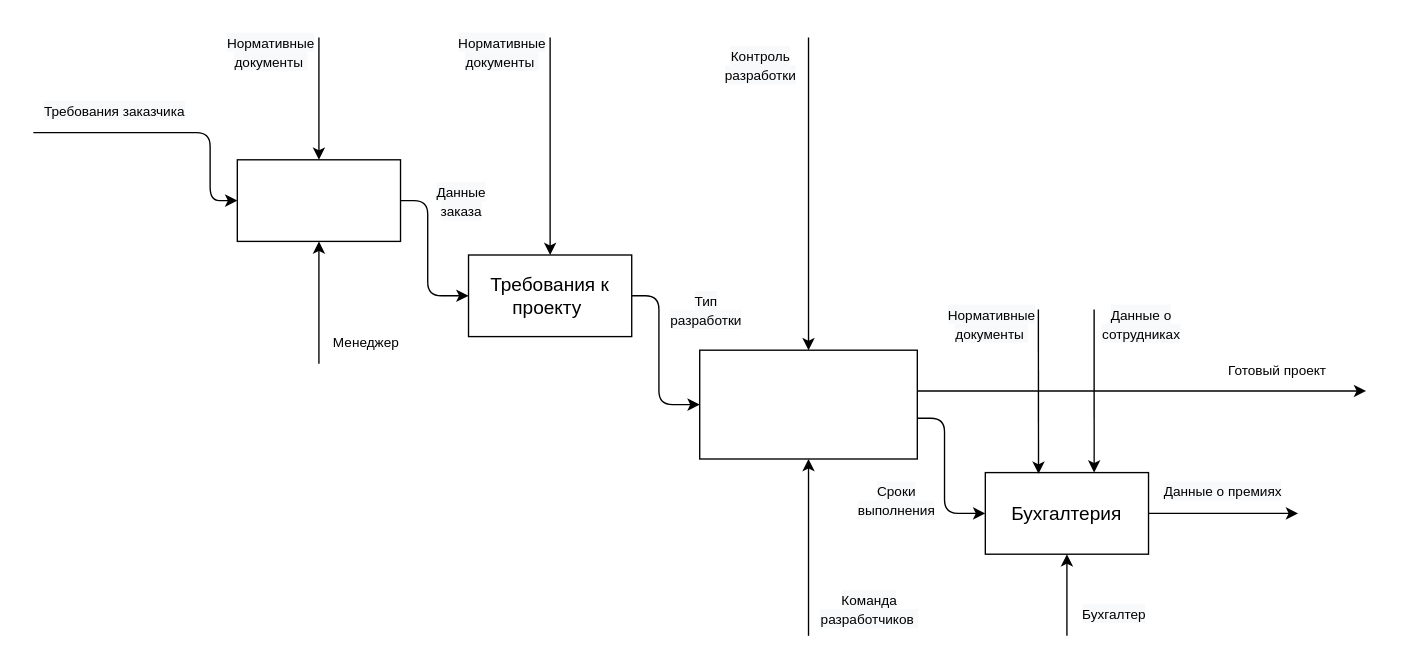
This 1401x670 diagram has some shape labels left out. The shapes that lost their labels are listed below. From the top down, each one's box as (x1, y1, x2, y2) in pixels, then its label:
(236, 158, 401, 241): Прием заказа
(698, 349, 917, 459): Разработка проекта
